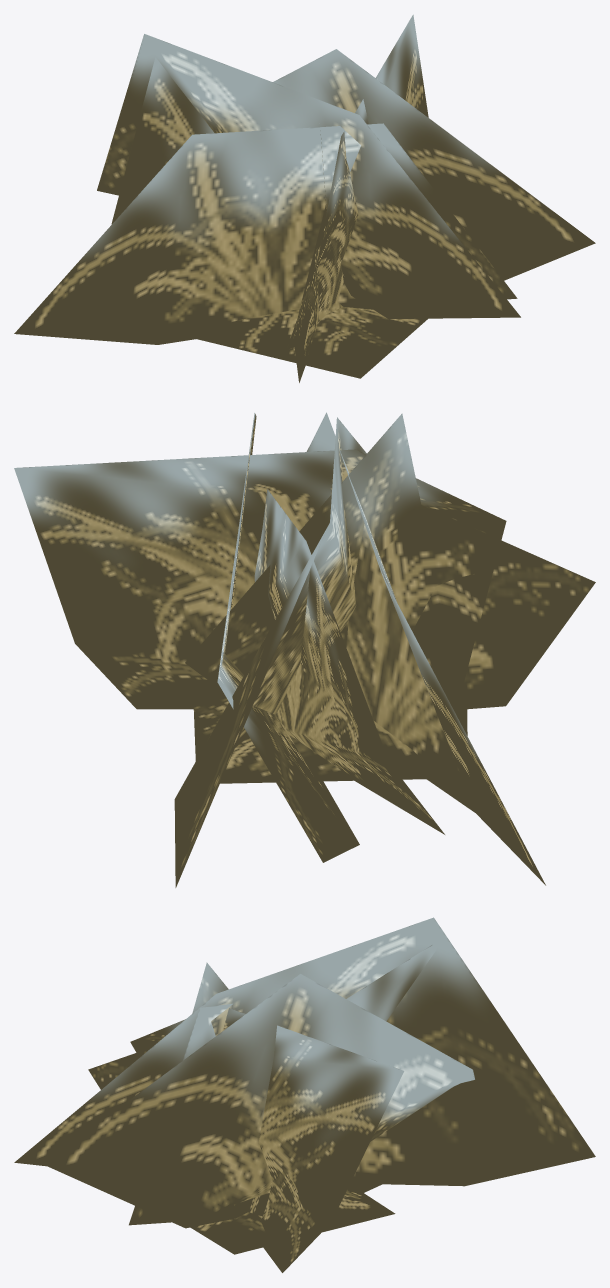
The model's file is ichu_01_nieve.glb.
The picture shows the model from 3 angles, top to bottom: view 1: azimuth 30°, elevation 25°; view 2: azimuth 150°, elevation 25°; view 3: azimuth 270°, elevation 25°; orthographic projection. The views are drawn at different scales.
Visible parts, largest first — view 1: Ichu; view 2: Ichu; view 3: Ichu.
Part boxes in pixels (x1=…): Ichu: x1=14, y1=14, x2=595, y2=382; Ichu: x1=14, y1=412, x2=595, y2=887; Ichu: x1=14, y1=917, x2=595, y2=1272.
Bounding box in the file's own units: 0.5158 × 0.34 × 0.6564.
Materials: 1 (1 with a texture image).
